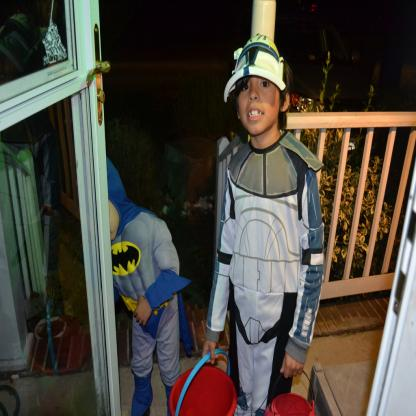Helmet: (225, 32, 286, 104)
